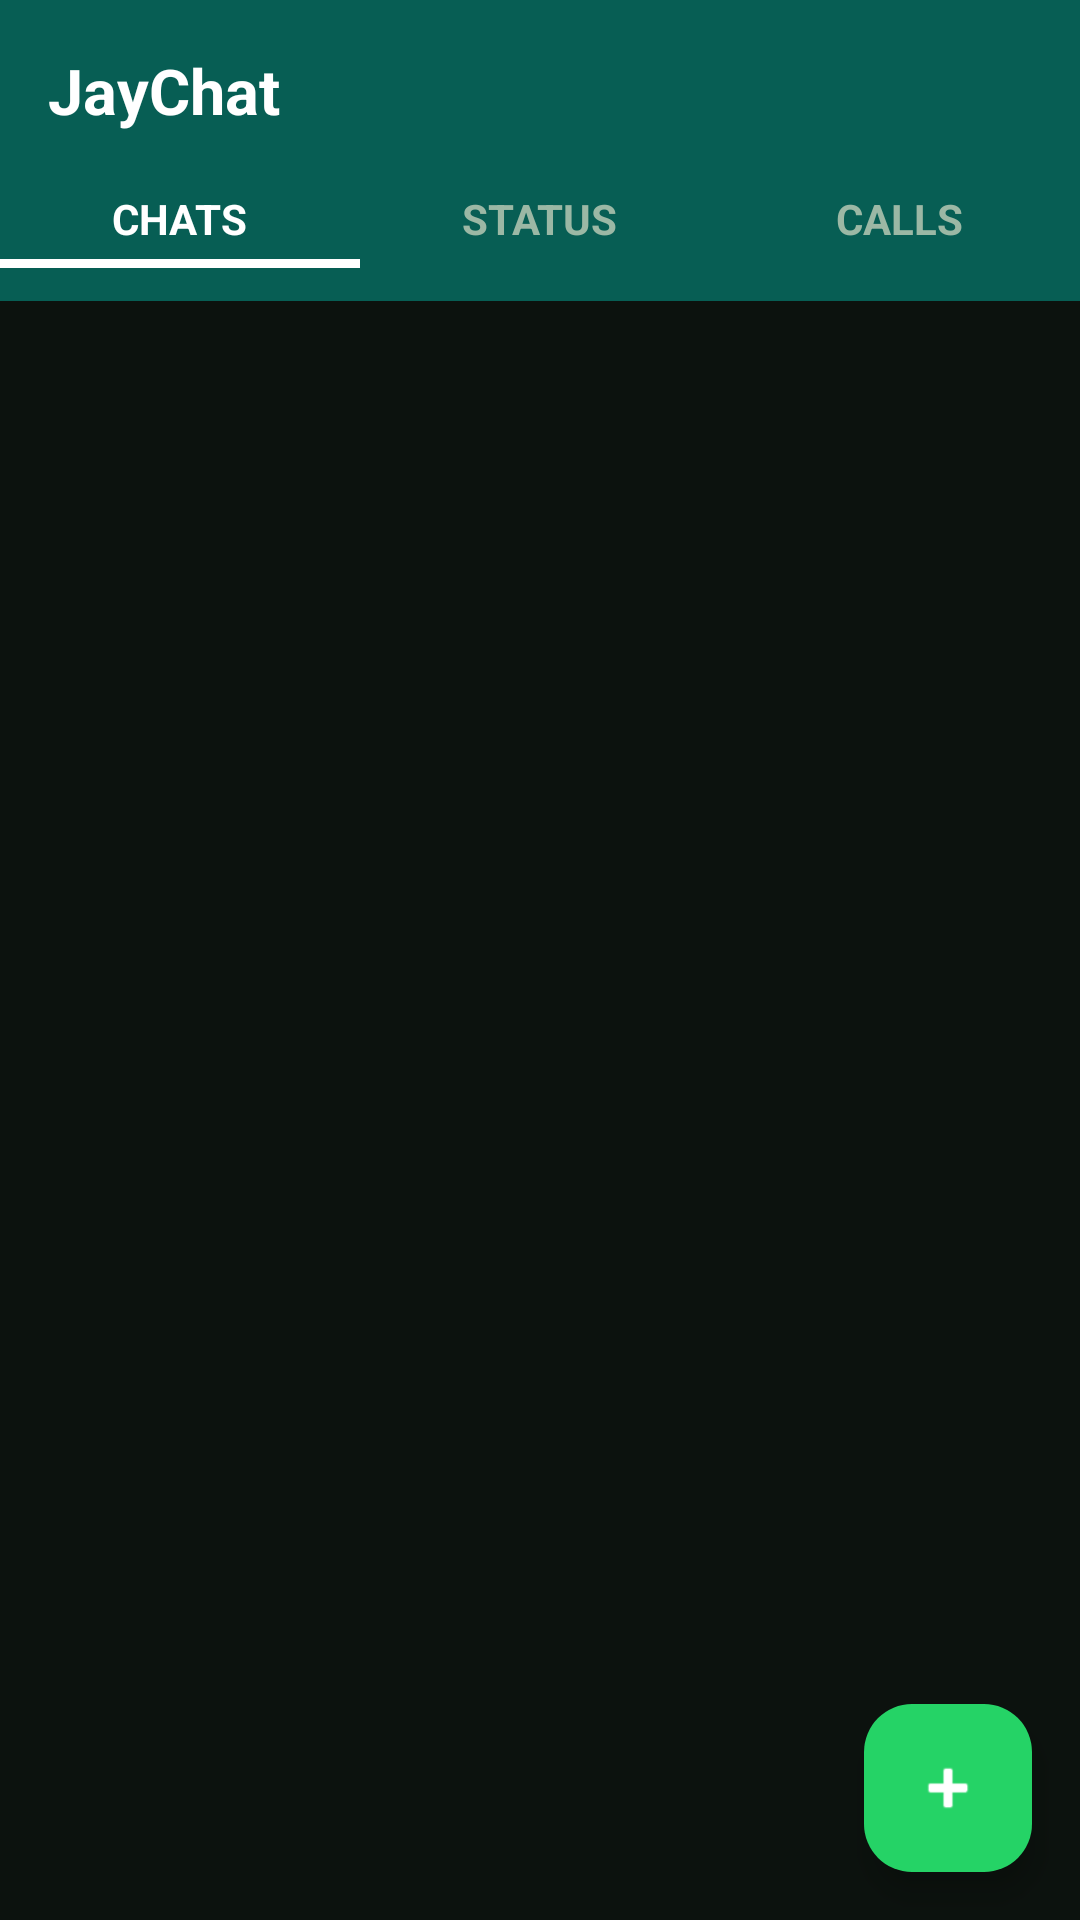

Where icons sit on this 1080×1920 app screen, as (x1, y1, x2, y2):
New chat: (864, 1704, 1032, 1872)
